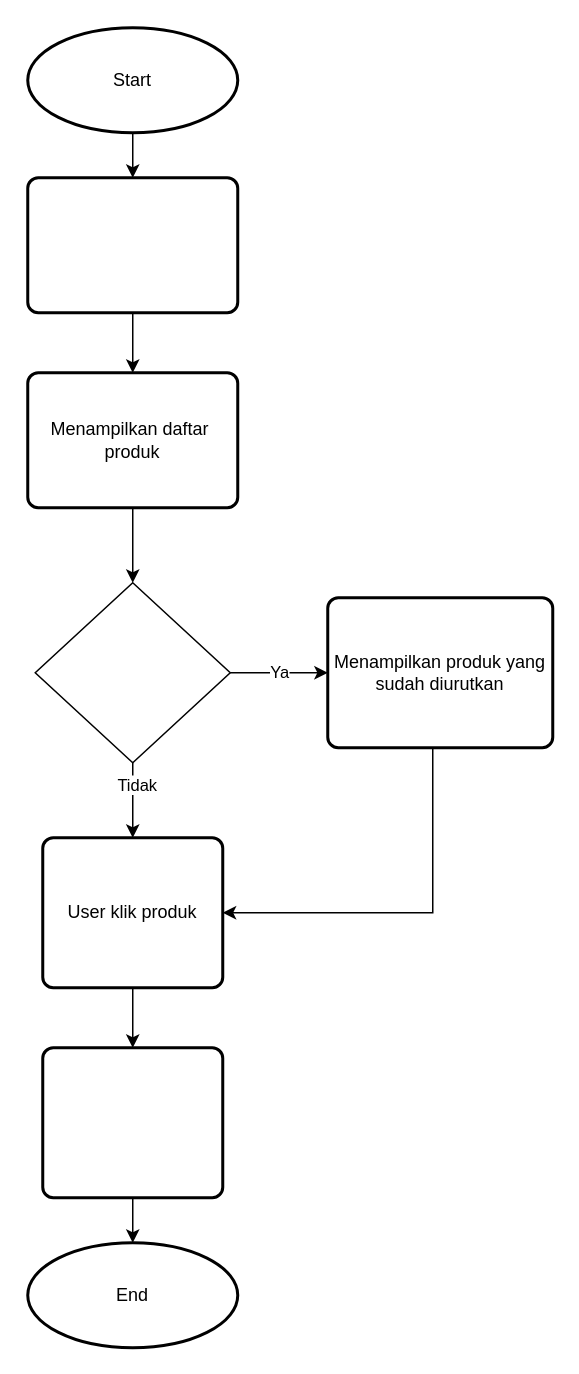
Image size: 579x1374. Some labels were removed from this diagram. The shapes that lost their labels are listed below. From the top down, each one's centre as x and y in pixels, then its label:
the point at 132,245: User masuk ke halaman inventory
the point at 132,672: User memilih sorting produk
the point at 132,1122: Menampilkan halaman detail produk
